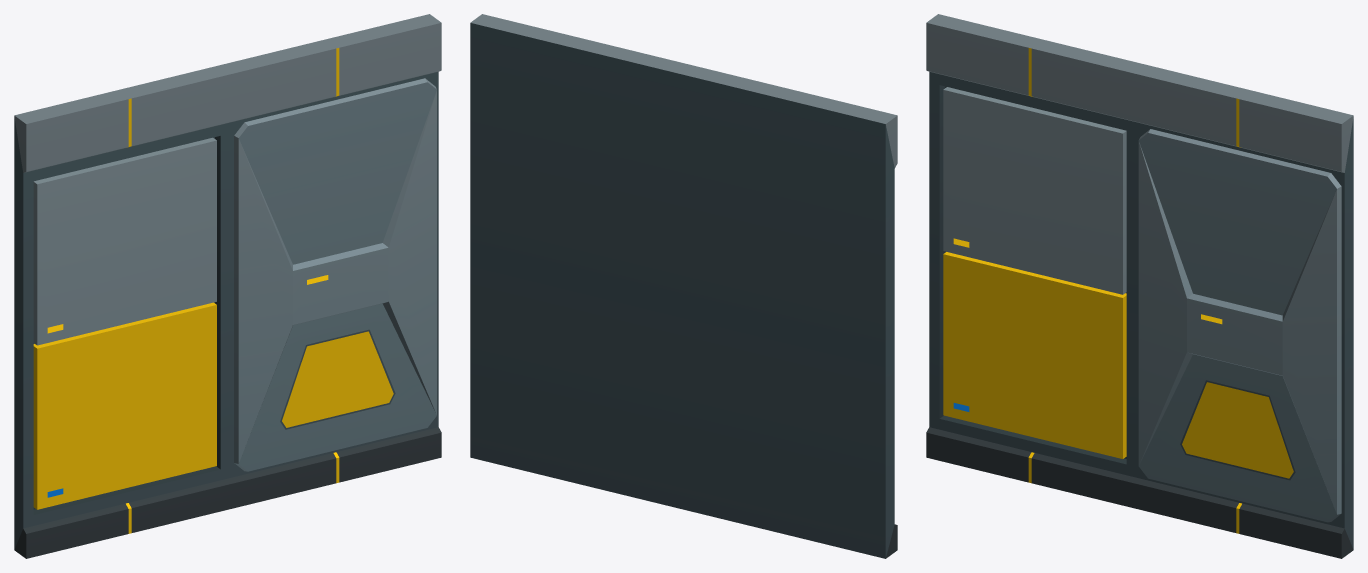
The model's file is Wall_type_C_011.glb.
The picture shows the model from 3 angles, left to right: view 1: azimuth 30°, elevation 25°; view 2: azimuth 150°, elevation 25°; view 3: azimuth 330°, elevation 25°; orthographic projection.
Parts seen in each view (by area): view 1: Wall_type_C_011; view 2: Wall_type_C_011; view 3: Wall_type_C_011.
Boxes of the visible parts, box(x1,y1,x2,y2) form: Wall_type_C_011: box(14, 14, 441, 558); Wall_type_C_011: box(470, 14, 897, 558); Wall_type_C_011: box(926, 14, 1353, 558).
Size of the model in its own units: 4 by 4 by 0.25.
2 materials, 2 textured.
